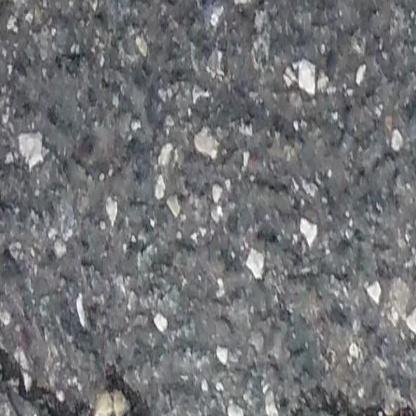Cracks: (0, 356, 166, 416), (340, 401, 416, 416)
